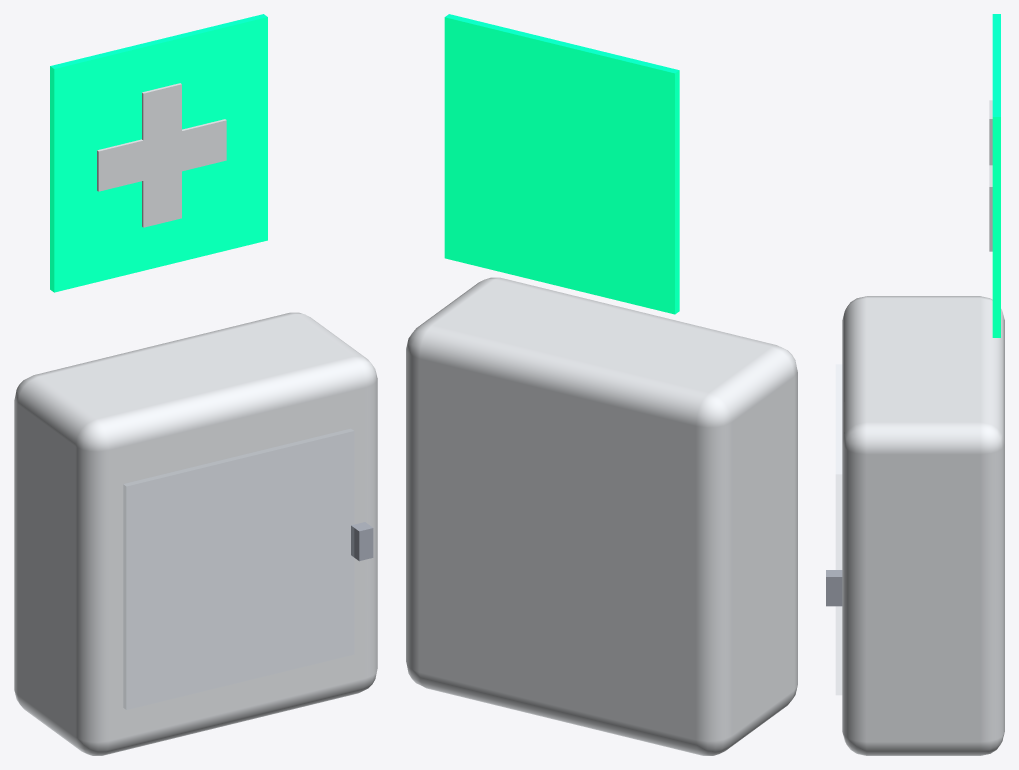
Rendered from ame-010.glb.
3 renders of one model, left to right at view 1: azimuth 30°, elevation 25°; view 2: azimuth 150°, elevation 25°; view 3: azimuth 270°, elevation 25°, orthographic. The views are drawn at different scales.
Parts seen in each view (by area): view 1: white, glass_clear, exit_green, steel; view 2: white, exit_green; view 3: white, exit_green, glass_clear, steel.
Part boxes in pixels (bbox=[...]): white: bbox=[14, 83, 377, 755]; glass_clear: bbox=[124, 429, 353, 709]; exit_green: bbox=[50, 14, 267, 292]; steel: bbox=[351, 522, 373, 561]; white: bbox=[406, 277, 797, 755]; exit_green: bbox=[444, 14, 679, 314]; white: bbox=[842, 100, 1004, 755]; exit_green: bbox=[992, 14, 1000, 337]; glass_clear: bbox=[836, 365, 841, 694]; steel: bbox=[826, 570, 842, 606].
Bounding box in the file's own units: 0.42 × 0.85 × 0.22.
